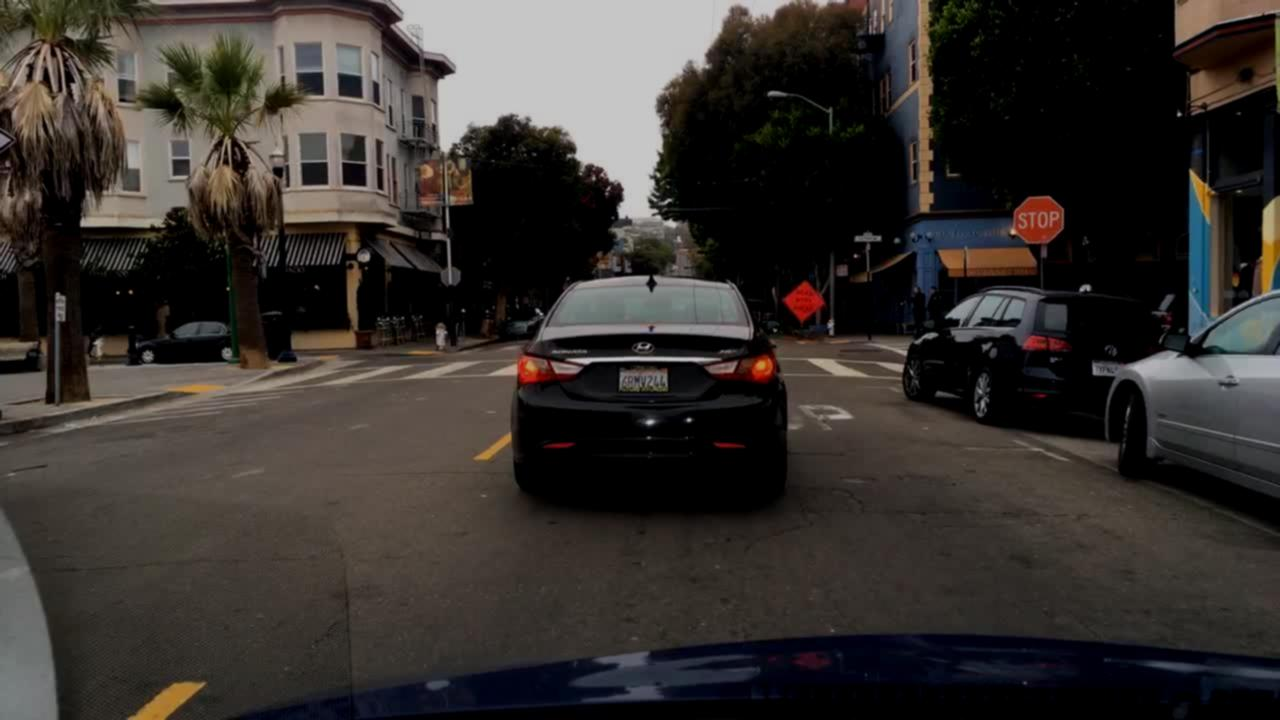Hyundai: (629, 337, 662, 361)
